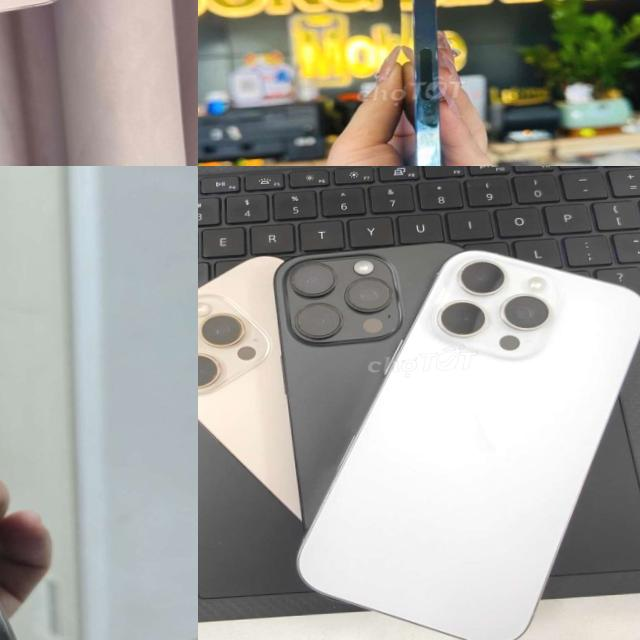gen_12_13: (392, 0, 458, 166)
gen_16: (288, 241, 640, 640)
